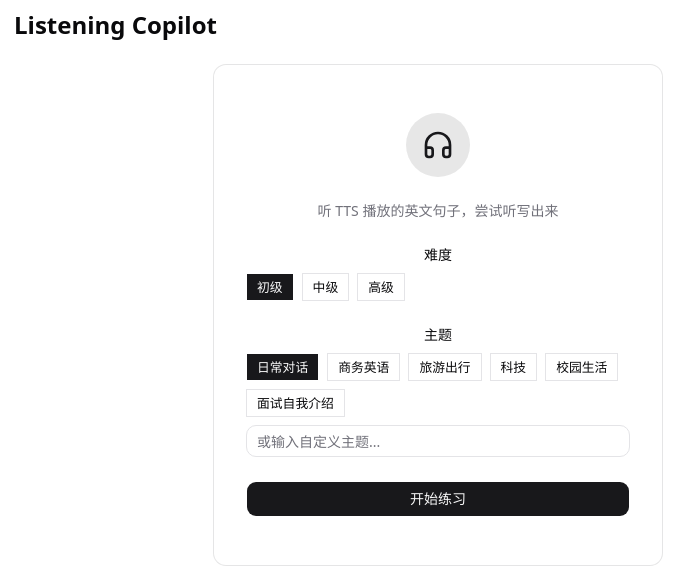
Scenario: ListeningPage › shows error when LLM returns unparseable content
Click the button "开始练习" at (438, 499), box x1=246 y1=481 x2=630 y2=517
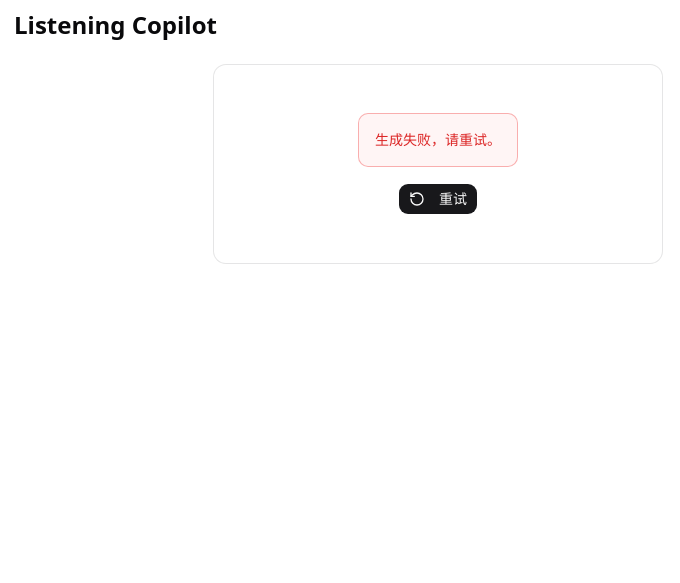
Expected: the text "生成失败，请重试。" is shown, x1=375 y1=130 x2=501 y2=150
